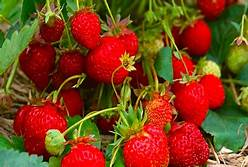Fresa: (20, 100, 69, 159), (17, 38, 60, 94), (119, 124, 172, 167), (83, 43, 133, 87), (68, 8, 106, 52), (37, 15, 67, 44)
